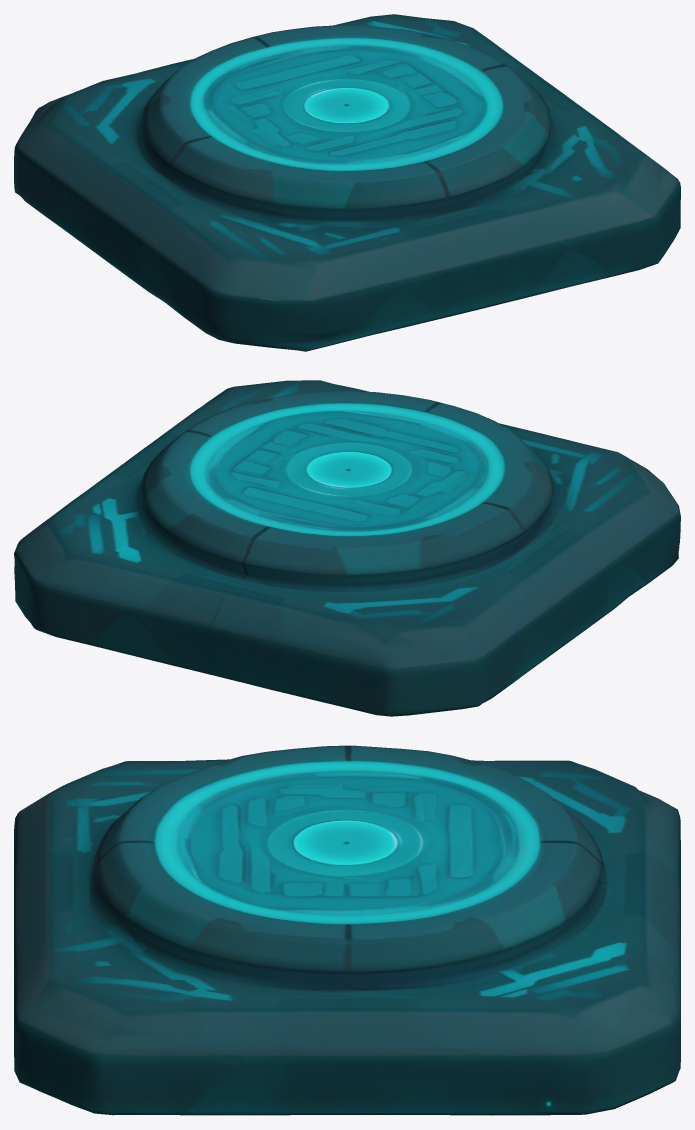
File: jump.glb
3 views of the same model, one above another, from view 1: azimuth 30°, elevation 25°; view 2: azimuth 150°, elevation 25°; view 3: azimuth 270°, elevation 25° (orthographic). The views are drawn at different scales.
Size of the model in its own units: 2 by 0.4432 by 2.
1 material, 1 textured.
